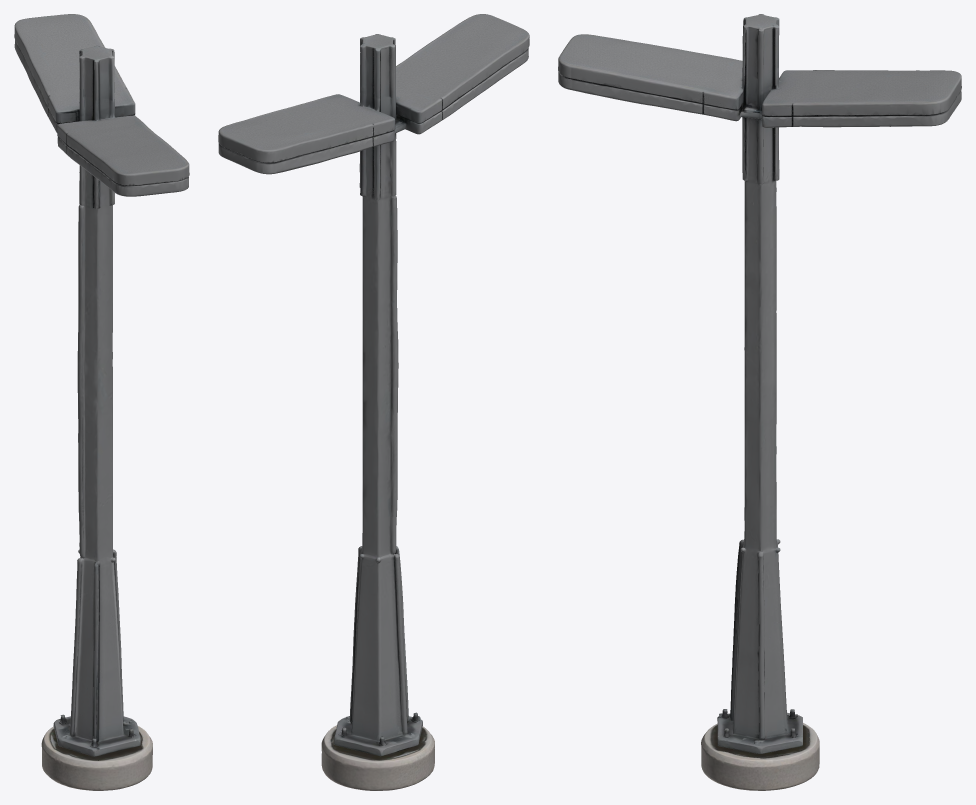
File: tripo-street-light.glb
The picture shows the model from 3 angles, left to right: view 1: azimuth 30°, elevation 25°; view 2: azimuth 150°, elevation 25°; view 3: azimuth 270°, elevation 25°; orthographic projection. The views are drawn at different scales.
Parts seen in each view (by area): view 1: tripo_node_f737e98e-456f-423e-b688-4c7f614bc0ed; view 2: tripo_node_f737e98e-456f-423e-b688-4c7f614bc0ed; view 3: tripo_node_f737e98e-456f-423e-b688-4c7f614bc0ed.
Part boxes in pixels (<box>): tripo_node_f737e98e-456f-423e-b688-4c7f614bc0ed: <box>14,14,189,790</box>; tripo_node_f737e98e-456f-423e-b688-4c7f614bc0ed: <box>218,14,529,790</box>; tripo_node_f737e98e-456f-423e-b688-4c7f614bc0ed: <box>558,14,961,790</box>.
Size of the model in its own units: 0.1958 by 0.9814 by 0.4803.
Materials: 1 (1 with a texture image).
